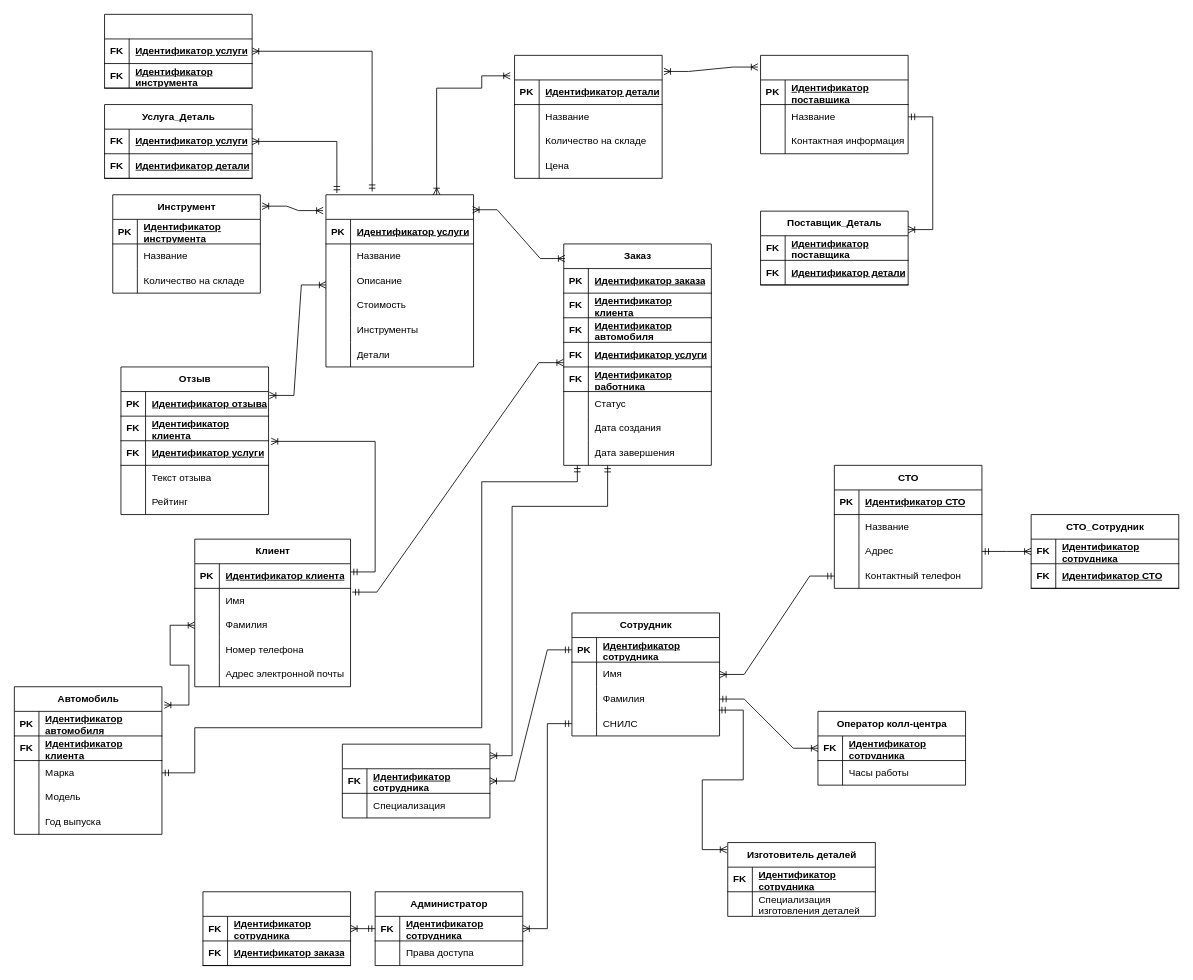
Image size: 1193x980. Some labels were removed from this diagram. Each missing label, with the box of its shape:
Администратор_Заказ: (202, 891, 351, 966)
Деталь: (514, 55, 662, 178)
Поставщики деталей: (760, 55, 908, 154)
Работник: (342, 743, 490, 818)
Услуга: (325, 194, 474, 367)
Услуга_Инструмент: (104, 14, 252, 88)
